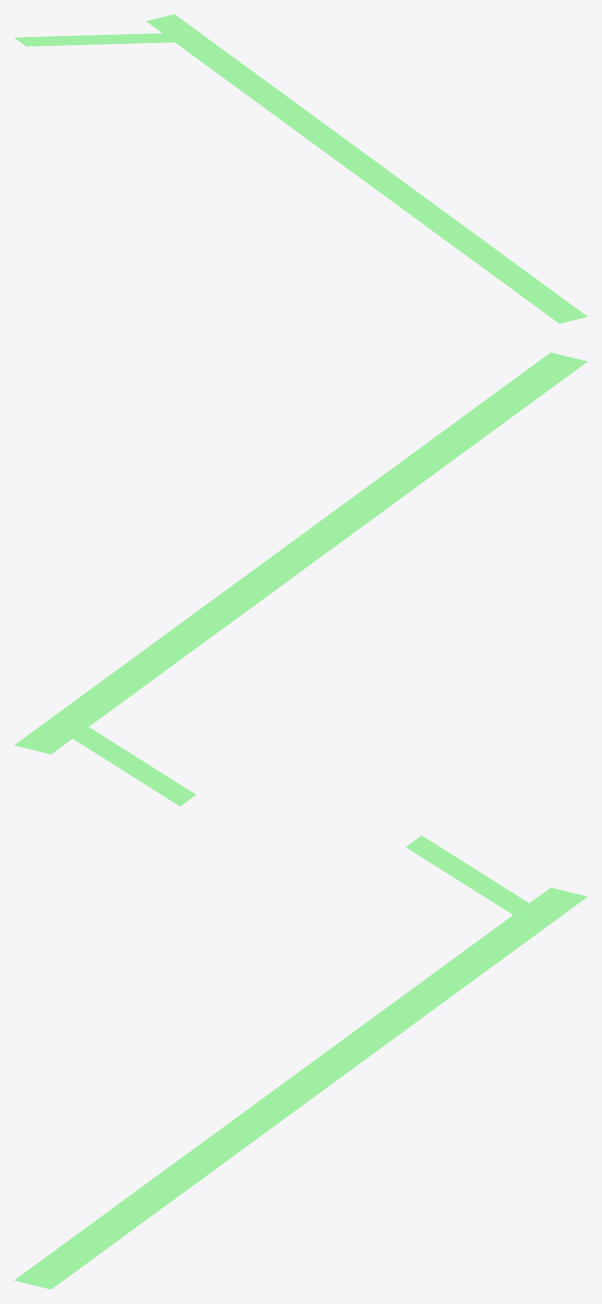
The model's file is 022shemi00250075kts.dae.
The picture shows the model from 3 angles, top to bottom: view 1: azimuth 30°, elevation 25°; view 2: azimuth 150°, elevation 25°; view 3: azimuth 330°, elevation 25°; orthographic projection. The views are drawn at different scales.
Visible parts, largest first — view 1: Plane; view 2: Plane; view 3: Plane.
Boxes of the visible parts, x1,y1,x2,y2 form: Plane: (14,14,587,323); Plane: (15,353,587,805); Plane: (14,836,586,1288).
Bounding box in the file's own units: 20.15 × 104 × 0.
